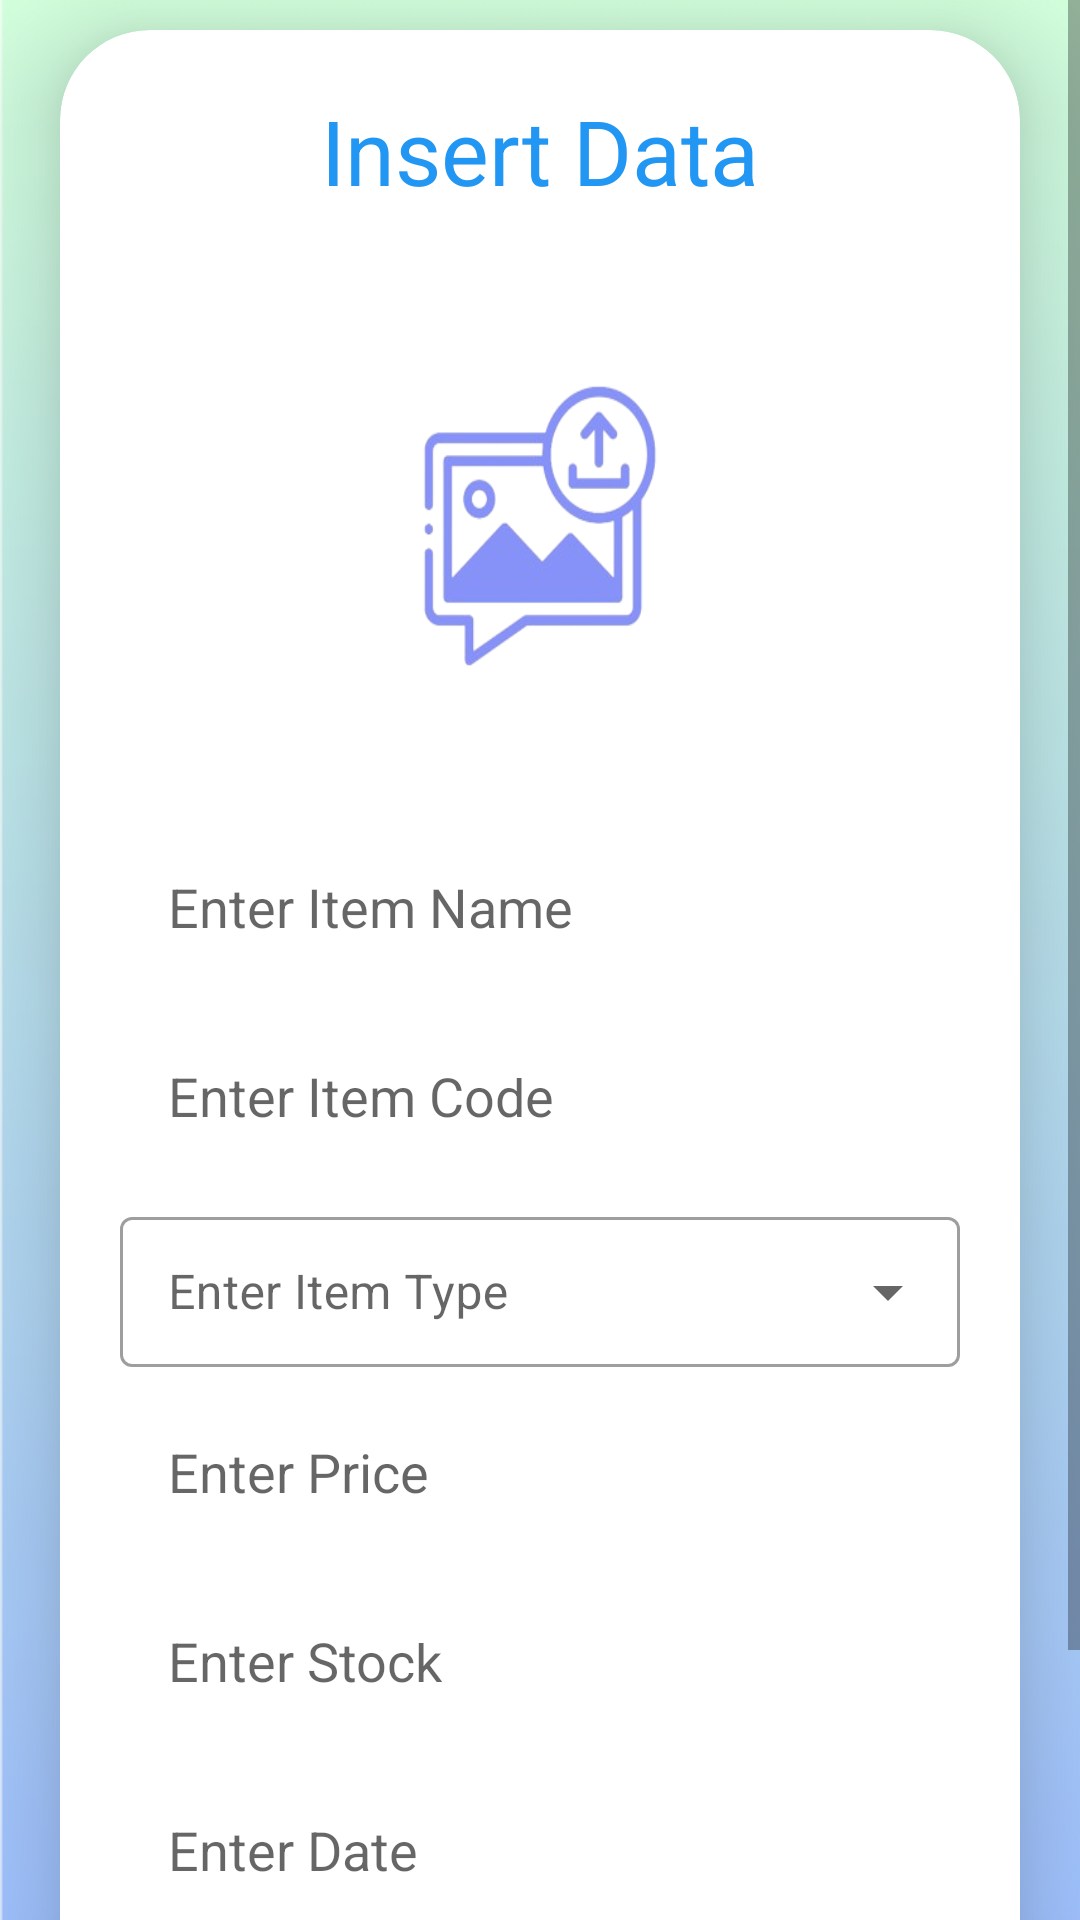

Icon click points for this 1080px×1920px phone screenshot, format (x=x, y=y):
uploadimg: (x=540, y=526)
